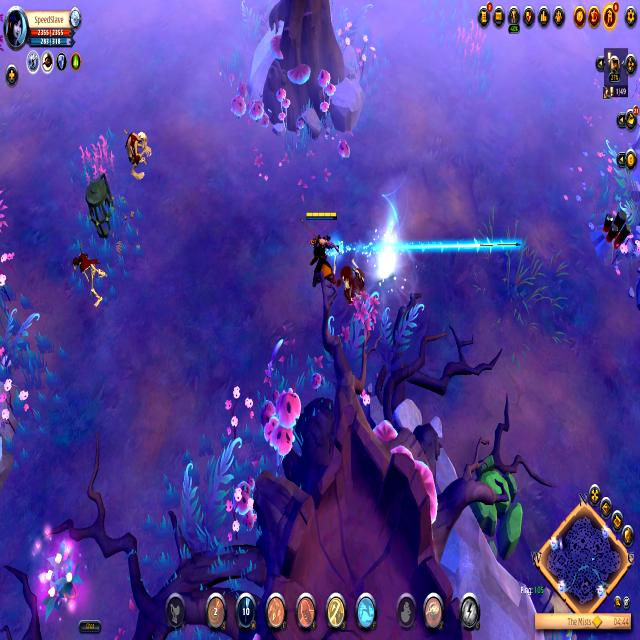hide: (36, 530, 83, 624)
ore: (69, 240, 110, 308), (122, 120, 156, 188)
player: (589, 198, 633, 274)
red: (300, 205, 340, 289)
tree: (468, 443, 530, 569)
